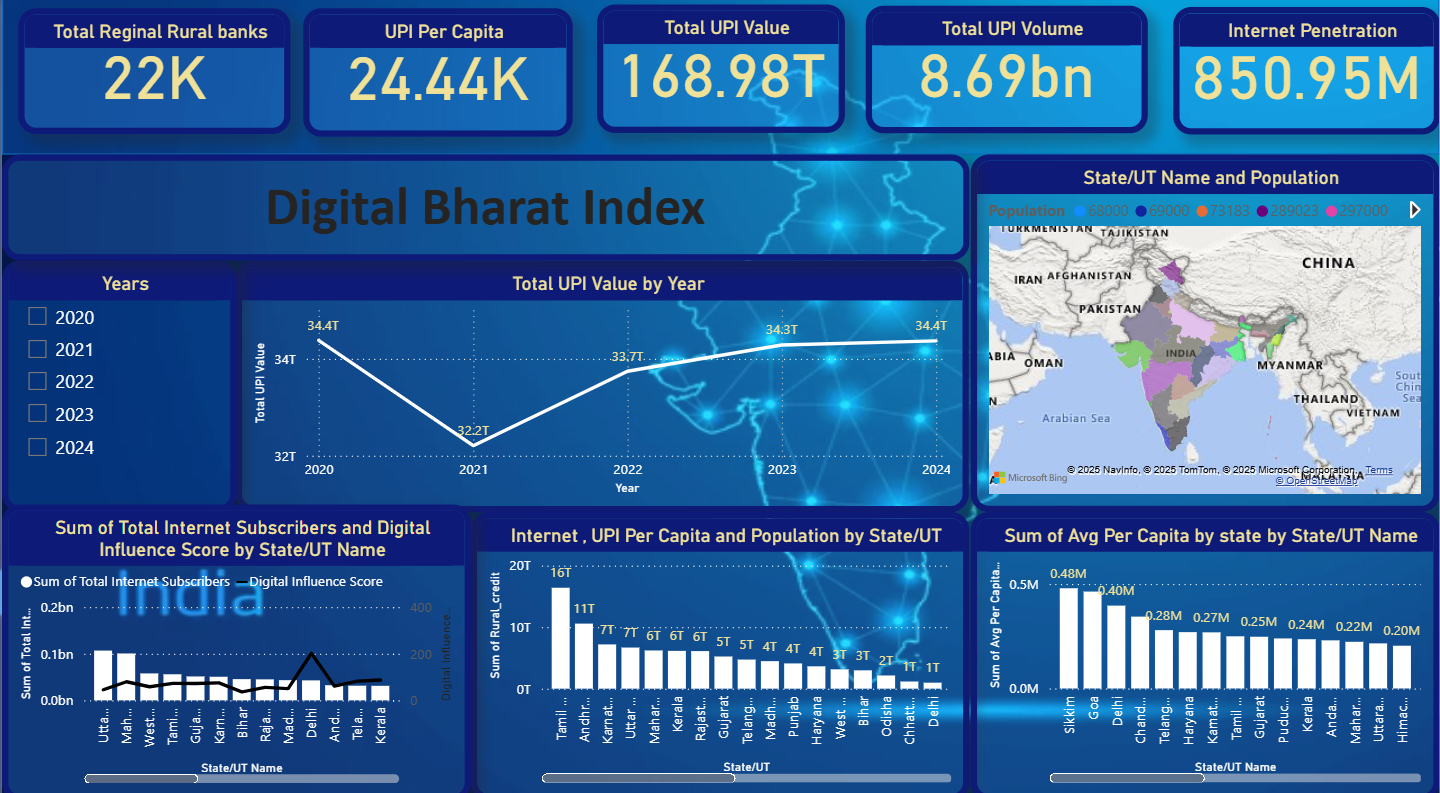

What the dashboard file says about the page in this screenshot:
{"tool":"powerbi","page":{"name":"Digital Bharat Index","canvas":[1280,720],"ordinal":0},"visuals":[{"type":"shape","box":[0,0,1280,144.8],"z":0},{"type":"lineChart","fields":{"Category":["UPI Transactions.Date.Variation.Date Hierarchy.Year","UPI Transactions.Date.Variation.Date Hierarchy.Quarter","UPI Transactions.Date.Variation.Date Hierarchy.Month","UPI Transactions.Date.Variation.Date Hierarchy.Day"],"Y":["UPI Transactions.Total UPI Value"]},"box":[208.7,238.9,652.7,224.4],"z":1000},{"type":"filledMap","fields":{"Category":["UPI Transactions.State/UT Name"],"Series":["State wise data 1.Population"]},"box":[862.6,144.8,417.4,318.5],"z":2000},{"type":"card","title":"UPI Per Capita","fields":{"Values":["State wise data 1.UPI Per Capita"]},"box":[267.8,14.5,240.1,114.6],"z":3000},{"type":"card","title":"Total UPI Value","fields":{"Values":["UPI Transactions.Total UPI Value"]},"box":[529.6,10.9,220.8,114.6],"z":4000},{"type":"card","title":"Total UPI Volume","fields":{"Values":["UPI Transactions.Total UPI Volume"]},"box":[769.7,12.1,250.9,113.4],"z":5000},{"type":"card","title":"Internet Penetration","fields":{"Values":["Sum(State wise data 2.Total Internet Subscribers)"]},"box":[1042.6,13.1,237.7,113.5],"z":6000},{"type":"columnChart","title":"Internet , UPI Per Capita and Population by State/UT","fields":{"Category":["State wise data 1.State/UT"],"Y":["Sum(State wise data 1.Rural_credit)"]},"box":[417.4,463.1,444.2,257.1],"z":7000},{"type":"clusteredColumnChart","fields":{"Category":["State wise data 2.State/UT Name"],"Y":["Sum(State wise data 2.Avg Per Capita by state)"]},"box":[862.6,463.3,417.4,257],"z":8000},{"type":"slicer","title":"Years","fields":{"Values":["State wise data 1.Year"]},"box":[0,238.9,208.7,224.4],"z":9000},{"type":"lineStackedColumnComboChart","fields":{"Category":["State wise data 2.State/UT Name"],"Y":["Sum(State wise data 2.Total Internet Subscribers)"],"Y2":["State wise data 2.Digital Influence Score"]},"box":[0,456,417.4,264.2],"z":10000},{"type":"card","title":"Total Reginal Rural banks","fields":{"Values":["Sum(State wise data 2.Number of RRB Branches)"]},"box":[14.5,14.5,242.5,112.2],"z":11000},{"type":"textbox","box":[0,144.8,861.4,94.1],"z":12000}]}

Visuals, with their boxes in screenshot pixels (x1, y1, x2, y2), scaled from the page's 1280x720 canvas onto the 1440x793 screenshot:
shape: l=0, t=0, r=1439, b=159
lineChart - UPI Transactions.Date.Variation.Date Hierarchy.Year x UPI Transactions.Date.Variation.Date Hierarchy.Quarter: l=235, t=263, r=969, b=510
filledMap - UPI Transactions.State/UT Name x State wise data 1.Population: l=970, t=159, r=1439, b=510
"UPI Per Capita" card: l=301, t=16, r=571, b=142
"Total UPI Value" card: l=596, t=12, r=844, b=138
"Total UPI Volume" card: l=866, t=13, r=1148, b=138
"Internet Penetration" card: l=1173, t=14, r=1439, b=139
"Internet , UPI Per Capita and Population by State/UT" columnChart: l=470, t=510, r=969, b=792
clusteredColumnChart - State wise data 2.State/UT Name x Sum(State wise data 2.Avg Per Capita by state): l=970, t=510, r=1439, b=792
"Years" slicer: l=0, t=263, r=235, b=510
lineStackedColumnComboChart - State wise data 2.State/UT Name x Sum(State wise data 2.Total Internet Subscribers): l=0, t=502, r=470, b=792
"Total Reginal Rural banks" card: l=16, t=16, r=289, b=140
textbox: l=0, t=159, r=969, b=263
